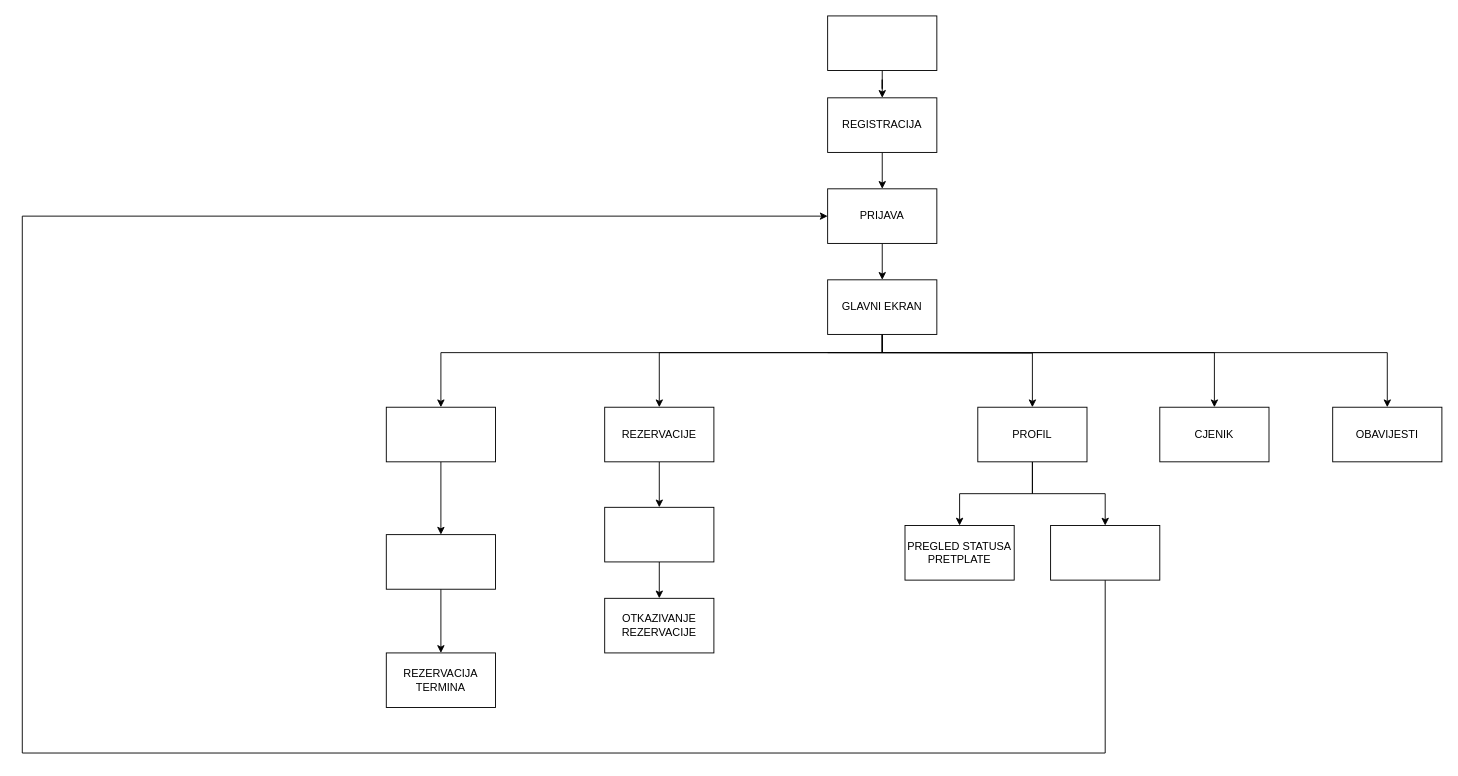
This 1458x776 diagram has some shape labels left out. Each missing label, with the centre of its shape:
"DETALJI TERMINA" belongs at [440,561].
"KALENDAR TERMINA" belongs at [440,434].
"ODJAVA" belongs at [1105,552].
"POČETNI EKRAN" belongs at [882,43].
"PREGLED DETALJA REZERVACIJE" belongs at [659,534].
